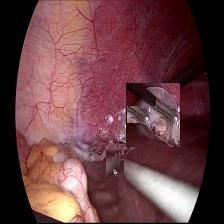Grasper: (127, 106, 150, 123)
Irrigator: (106, 145, 124, 180)
Specimen Bag: (126, 83, 180, 147)
